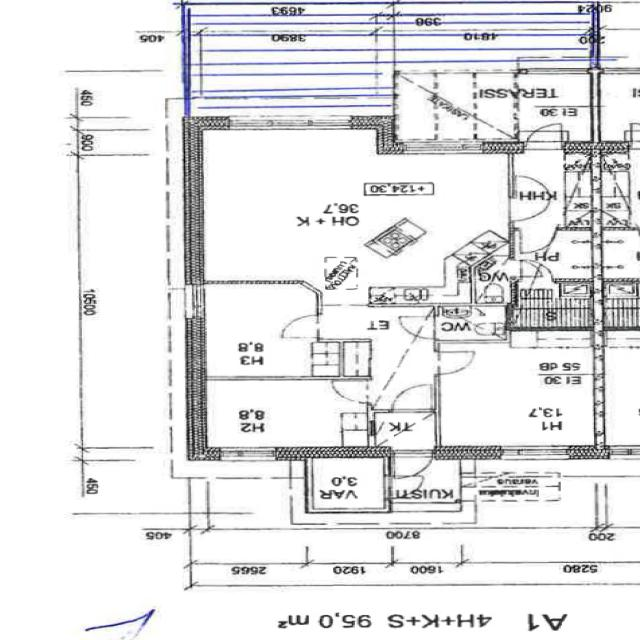door: (395, 447, 434, 483), (526, 120, 562, 154), (393, 386, 432, 414), (510, 198, 556, 221), (384, 476, 428, 499), (436, 352, 478, 375), (521, 228, 557, 254), (333, 382, 374, 404), (401, 317, 441, 339), (282, 316, 322, 337), (522, 260, 553, 282), (510, 260, 544, 277)
